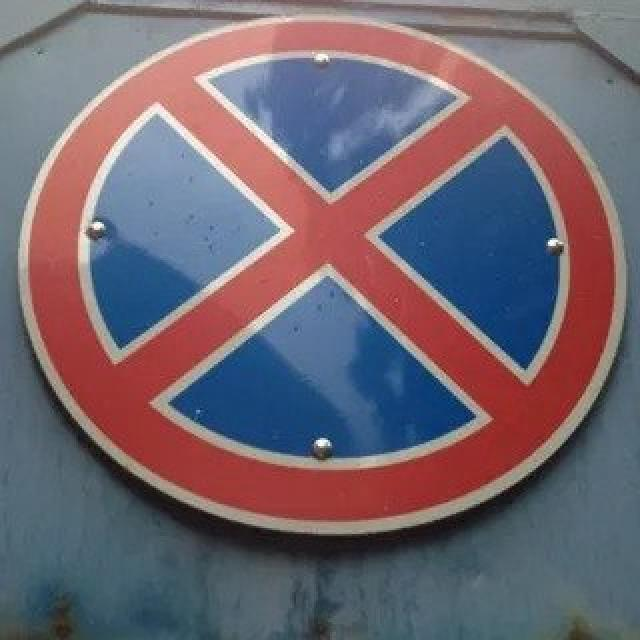no stopping: (16, 10, 636, 551)
